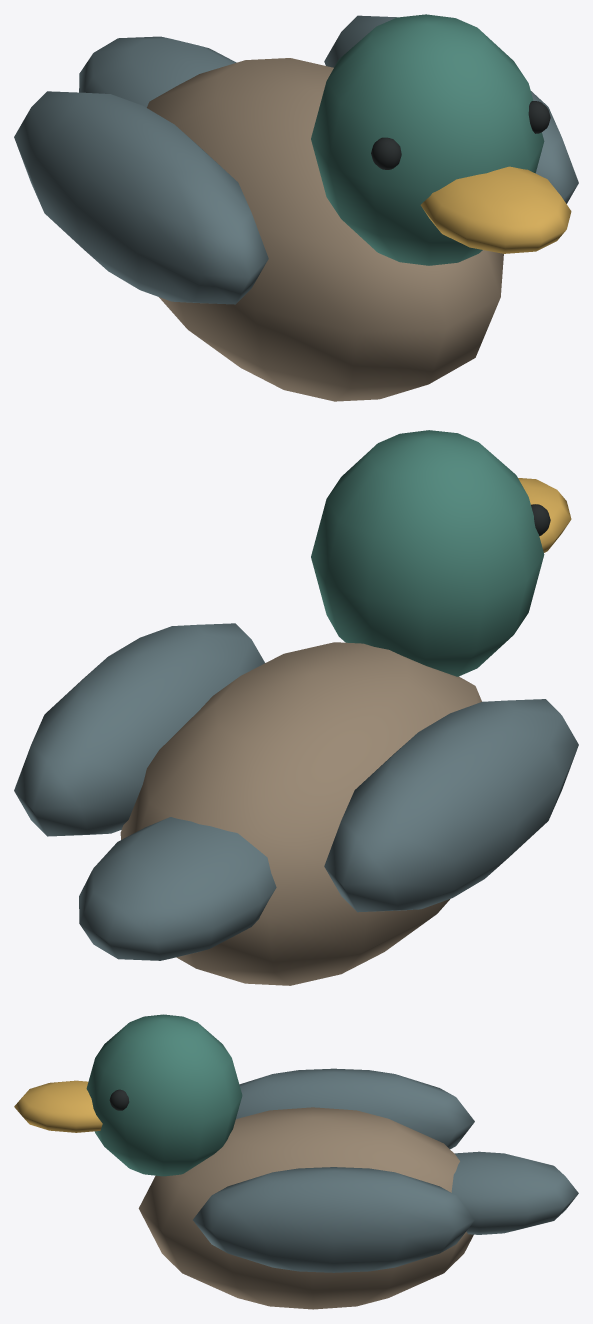
The model's file is duck.glb.
3 views of the same model, one above another, from view 1: azimuth 30°, elevation 25°; view 2: azimuth 150°, elevation 25°; view 3: azimuth 270°, elevation 25° (orthographic). The views are drawn at different scales.
Visible parts, largest first — view 1: body, head, wing, beak, tail, wing.001, eye, eye.001; view 2: body, head, wing, wing.001, tail, beak; view 3: body, wing.001, head, wing, tail, beak.
Part boxes in pixels (box(x1,y1,x2,y2)): body: box(147, 58, 503, 401); head: box(311, 14, 544, 265); wing: box(14, 91, 268, 304); beak: box(420, 166, 571, 253); tail: box(79, 36, 236, 107); wing.001: box(324, 15, 578, 203); eye: box(371, 137, 401, 169); eye.001: box(528, 101, 550, 133); body: box(120, 642, 481, 985); head: box(311, 430, 544, 676); wing: box(324, 699, 578, 912); wing.001: box(14, 623, 264, 836); tail: box(79, 817, 276, 960); beak: box(518, 478, 571, 552); body: box(138, 1107, 473, 1309); wing.001: box(193, 1167, 474, 1272); head: box(86, 1014, 242, 1176); wing: box(236, 1068, 474, 1149); tail: box(451, 1151, 578, 1234); beak: box(14, 1080, 102, 1132).
Bounding box in the file's own units: 0.58 × 0.5365 × 0.986.
